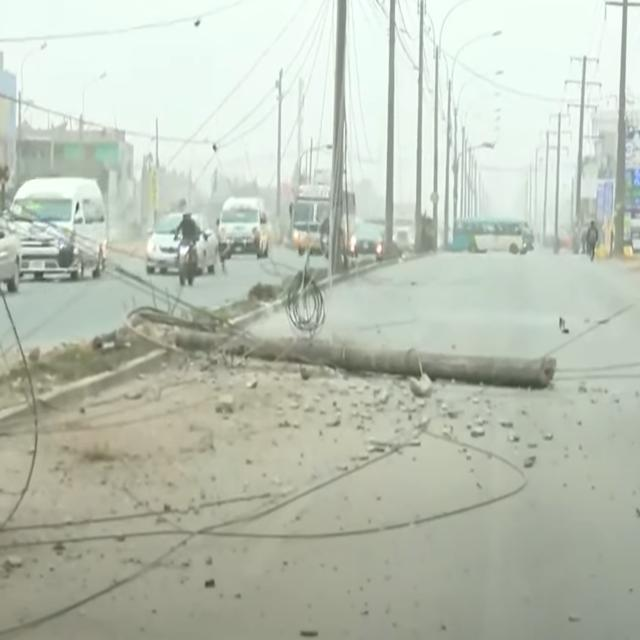Inclined Pole: (132, 280, 572, 408)
